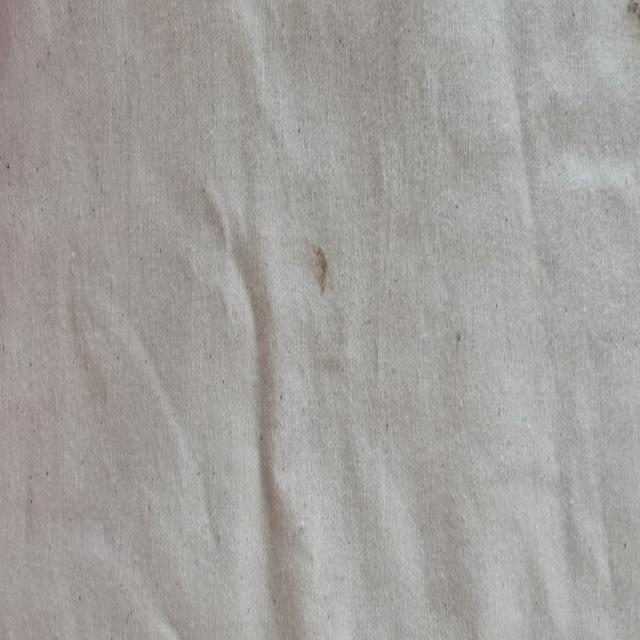taaaches: (304, 216, 336, 318), (621, 0, 640, 79)
